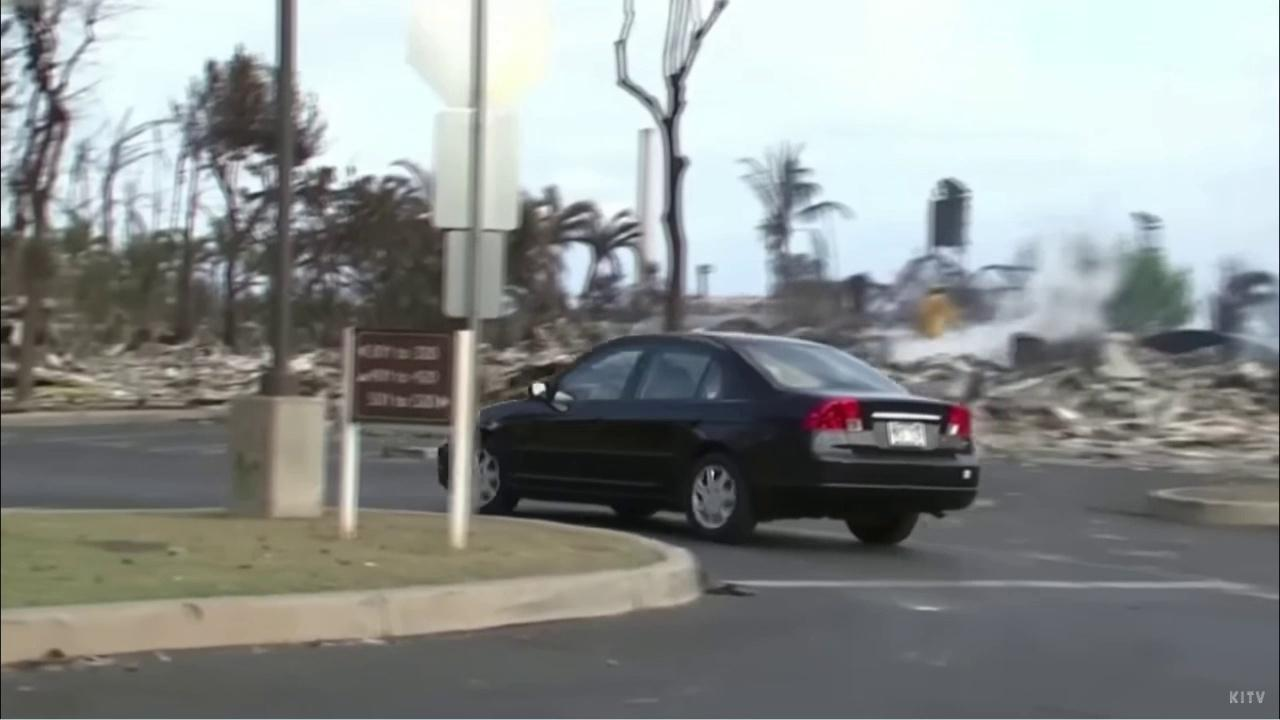smoke: (891, 222, 1126, 368)
